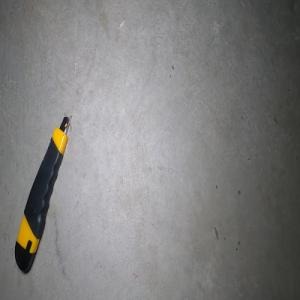Cutter: (14, 115, 70, 272)
